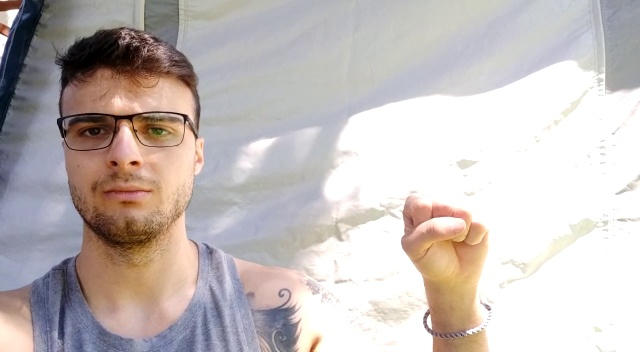Fist: (400, 189, 490, 288)
